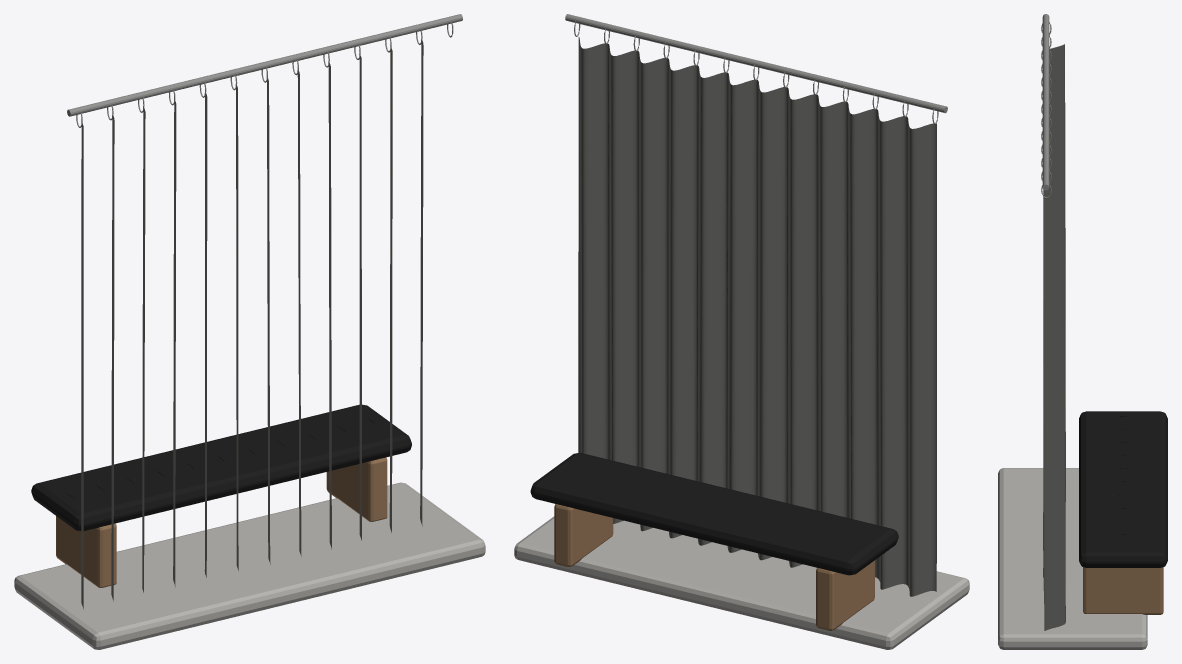
The model's file is bench.glb.
The picture shows the model from 3 angles, left to right: view 1: azimuth 30°, elevation 25°; view 2: azimuth 150°, elevation 25°; view 3: azimuth 270°, elevation 25°; orthographic projection. The views are drawn at different scales.
Visible parts, largest first — view 1: bench; view 2: bench; view 3: bench.
Boxes of the visible parts, x1,y1,x2,y2 form: bench: (14, 14, 485, 649); bench: (514, 14, 969, 649); bench: (998, 14, 1167, 649).
Bounding box in the file's own units: 2 × 2.55 × 0.8402.
